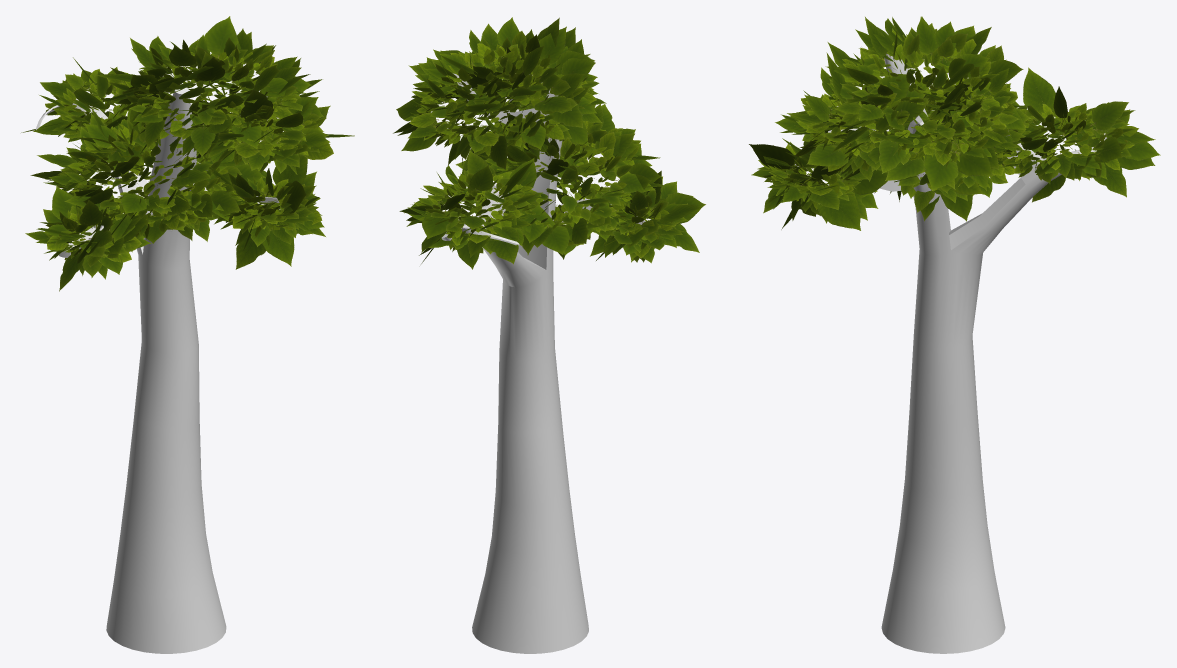
Rendered from Tree Decoration 1.fbx.
3 renders of one model, left to right at view 1: azimuth 30°, elevation 25°; view 2: azimuth 150°, elevation 25°; view 3: azimuth 270°, elevation 25°, orthographic. The views are drawn at different scales.
Visible parts, largest first — view 1: Tree_Deco; view 2: Tree_Deco; view 3: Tree_Deco.
Boxes of the visible parts, x1,y1,x2,y2 form: Tree_Deco: (21,16,354,653); Tree_Deco: (393,17,705,653); Tree_Deco: (749,16,1160,653).
Size of the model in its own units: 645 by 1220 by 760.
